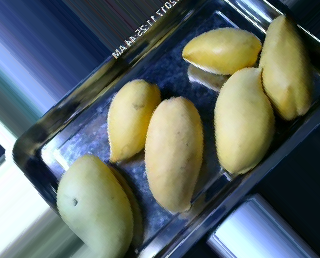Mango: (56, 155, 136, 257), (146, 95, 206, 213), (214, 65, 273, 177), (256, 14, 315, 116), (107, 77, 161, 164), (179, 23, 262, 77)
